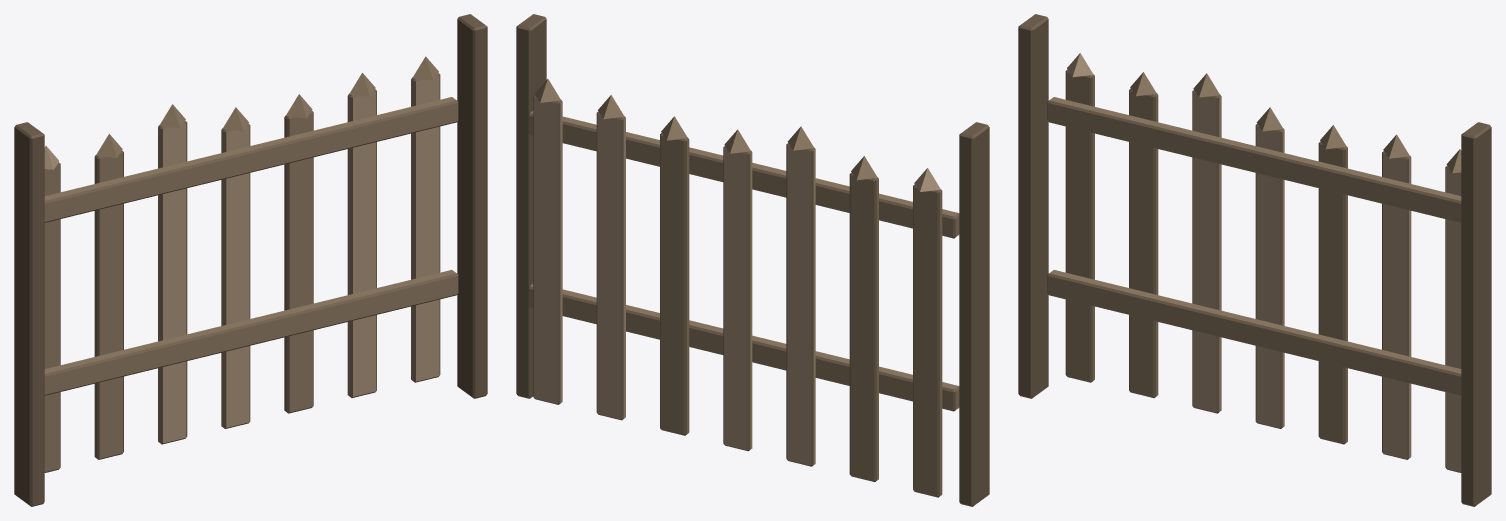
Rendered from fence.glb.
3 renders of one model, left to right at view 1: azimuth 30°, elevation 25°; view 2: azimuth 150°, elevation 25°; view 3: azimuth 330°, elevation 25°, orthographic.
Parts seen in each view (by area): view 1: Fence; view 2: Fence; view 3: Fence.
Boxes of the visible parts, x1,y1,x2,y2 form: Fence: (14, 14, 487, 506); Fence: (516, 14, 989, 506); Fence: (1018, 14, 1491, 506).
Size of the model in its own units: 1.52 by 1.18 by 0.1825.
